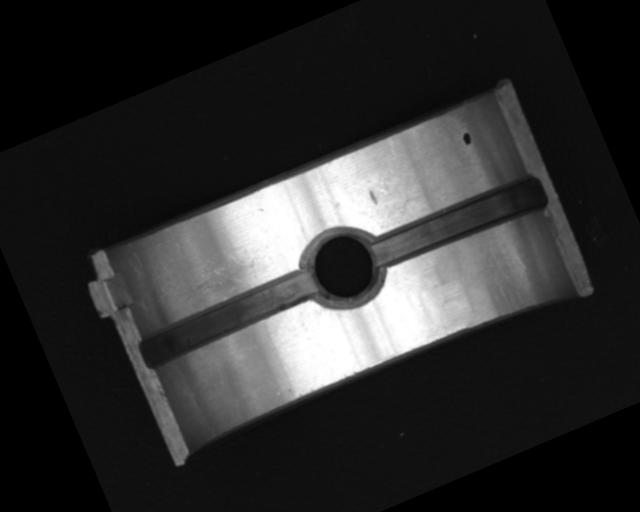blot: (460, 131, 474, 147)
bruise: (367, 188, 379, 206)
gap: (133, 263, 323, 372), (368, 169, 549, 273)
hole: (291, 213, 397, 322)
scratch: (151, 238, 275, 325)
